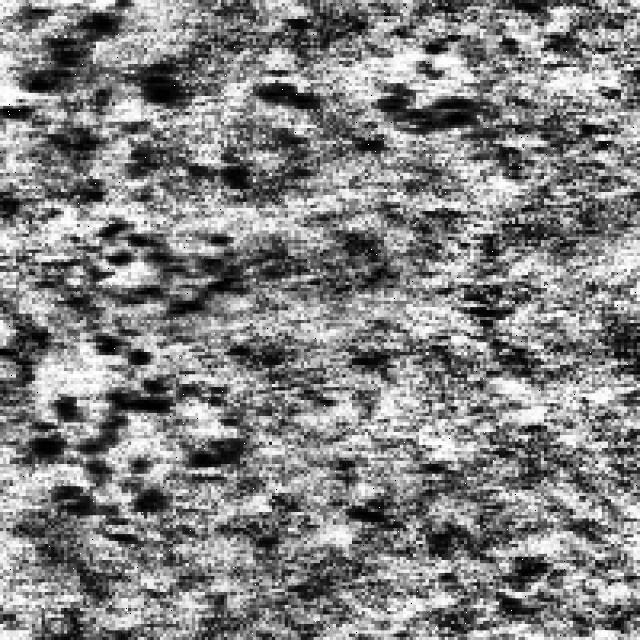Crazing: (12, 140, 250, 582), (198, 48, 516, 176), (0, 0, 186, 176)
